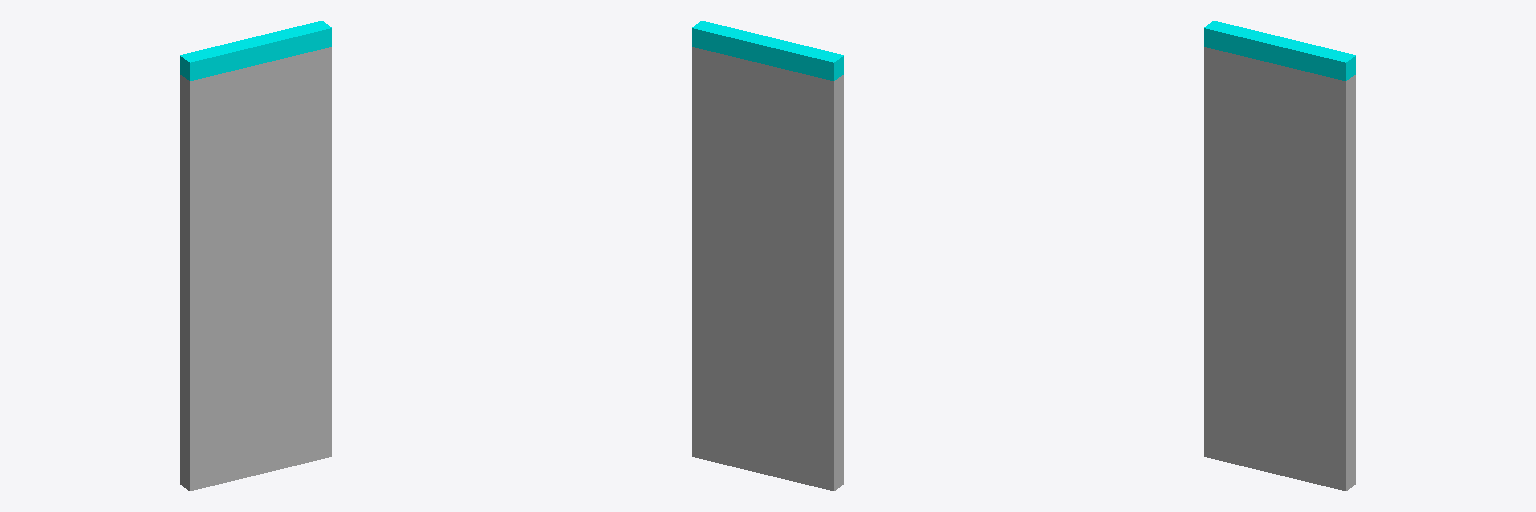
robot.urdf — spatula-base.urdf:
<?xml version="0.0" ?>
<robot name="spatula-base.urdf">
  <material name="DarkGrey">
    <color rgba="0.2 0.2 0.2 0.0"/>
  </material>
  <material name="LightGrey">
    <color rgba="0.8 0.8 0.8 0.0"/>
  </material>
  <material name="Blue">
    <color rgba="0.0 1.0 1.0 1.0"/>
  </material>

  <link name="baseLink">
    <contact>
      <lateral_friction value="1.0"/>
      <rolling_friction value="0.0001"/>
      <inertia_scaling value="3.0"/>
    </contact>
    <inertial>
      <origin rpy="0 0 0" xyz="0 0 0"/>
       <mass value=".1"/>
       <inertia ixx="1" ixy="0" ixz="0" iyy="1" iyz="0" izz="1"/>
    </inertial>
    <visual>
      <origin rpy="0 0 0" xyz="0 0 0"/>
      <geometry>
        <mesh filename="suction/base.obj" scale="0.001 0.001 0.001"/>
      </geometry>
      <material name="DarkGrey"/>
    </visual>
    <visual>
      <origin rpy="0 0 0" xyz="0 0 0.075"/>
      <geometry>
        <box size="0.04 0.005 0.11"/>
      </geometry>
      <material name="LightGrey"/>
    </visual>
    <collision>
      <origin rpy="0 0 0" xyz="0 0 0.075"/>
      <geometry>
        <box size="0.04 0.005 0.11"/>
      </geometry>
    </collision>
  </link>

  <link name="midLink">
    <contact>
      <lateral_friction value="1.0"/>
      <rolling_friction value="0.0001"/>
      <inertia_scaling value="3.0"/>
    </contact>
    <inertial>
      <origin rpy="0 0 0" xyz="0 0 0"/>
       <mass value=".1"/>
       <inertia ixx="1" ixy="0" ixz="0" iyy="1" iyz="0" izz="1"/>
    </inertial>
    <visual>
      <origin rpy="0 0 0" xyz="0 0 0.1075"/>
      <geometry>
        <box size="0.04 0.005 0.005"/>
      </geometry>
      <material name="Blue"/>
    </visual>
    <collision>
      <origin rpy="0 0 0" xyz="0 0 0.1075"/>
      <geometry>
        <box size="0.04 0.005 0.005"/>
      </geometry>
    </collision>
  </link>
  <joint name="baseLink-midLink" type="fixed">
    <origin rpy="0 0 0" xyz="0 0 0.025"/>
    <parent link="baseLink"/>
    <child link="midLink"/>
  </joint>


</robot>

--- Facts derived from the render (not from the file) ---
Views: 3 orthographic renders of the robot side by side, from view 1: azimuth 30°, elevation 25°; view 2: azimuth 150°, elevation 25°; view 3: azimuth 330°, elevation 25°.
Robot: spatula-base.urdf — 2 links, 1 joints (1 fixed); root link baseLink; default pose: all joints at 0.
Visible links, largest first — view 1: baseLink, midLink; view 2: baseLink, midLink; view 3: baseLink, midLink.
Boxes of the visible links, box(x1,y1,x2,y2) form: baseLink: box(180, 47, 331, 490); midLink: box(180, 21, 331, 80); baseLink: box(692, 47, 843, 490); midLink: box(692, 21, 843, 80); baseLink: box(1204, 47, 1355, 490); midLink: box(1204, 21, 1355, 80).
Bounding box of the posed robot: 0.04 × 0.005 × 0.115 m (x, y, z).
Meshes: 1 distinct files referenced, 0 mesh visuals loaded (none loaded); not drawn: 1 (reference not matched to a file when rendering).